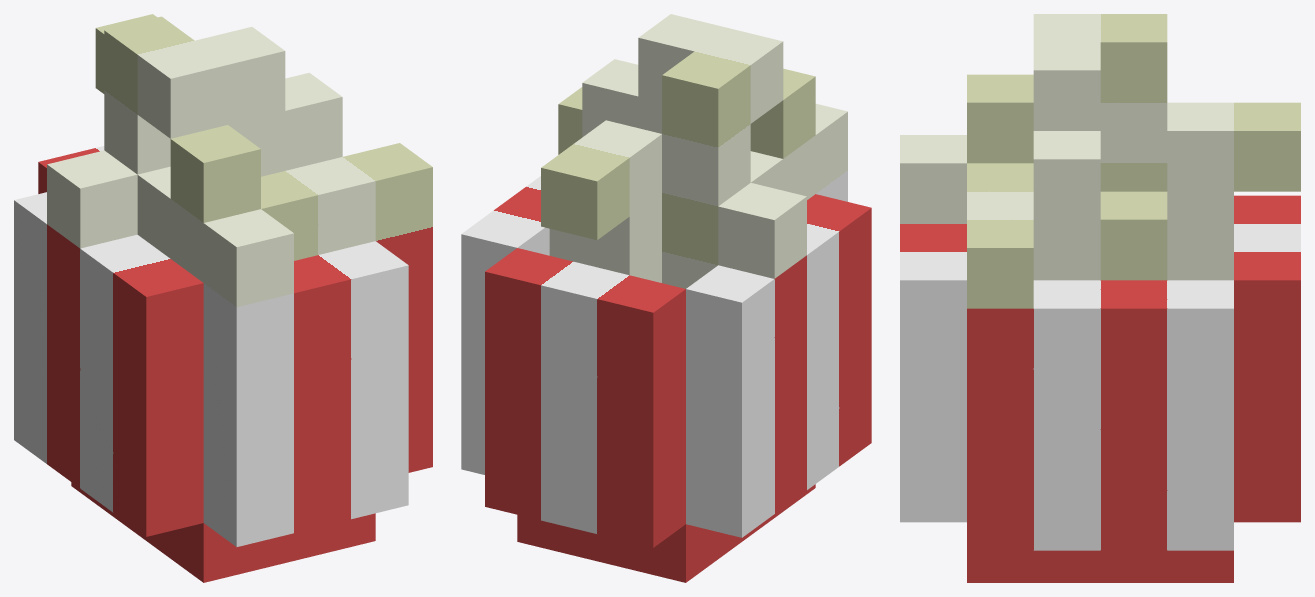
Rendered from popcorn.dae.
3 views of the same model, side by side, from view 1: azimuth 30°, elevation 25°; view 2: azimuth 150°, elevation 25°; view 3: azimuth 270°, elevation 25° (orthographic). The views are drawn at different scales.
Parts seen in each view (by area): view 1: popcorn; view 2: popcorn; view 3: popcorn.
Boxes of the visible parts, x1,y1,x2,y2 form: popcorn: (14,14,432,582); popcorn: (461,14,871,582); popcorn: (900,14,1300,582).
Bounding box in the file's own units: 5 × 8 × 6.
1 material, 1 textured.
